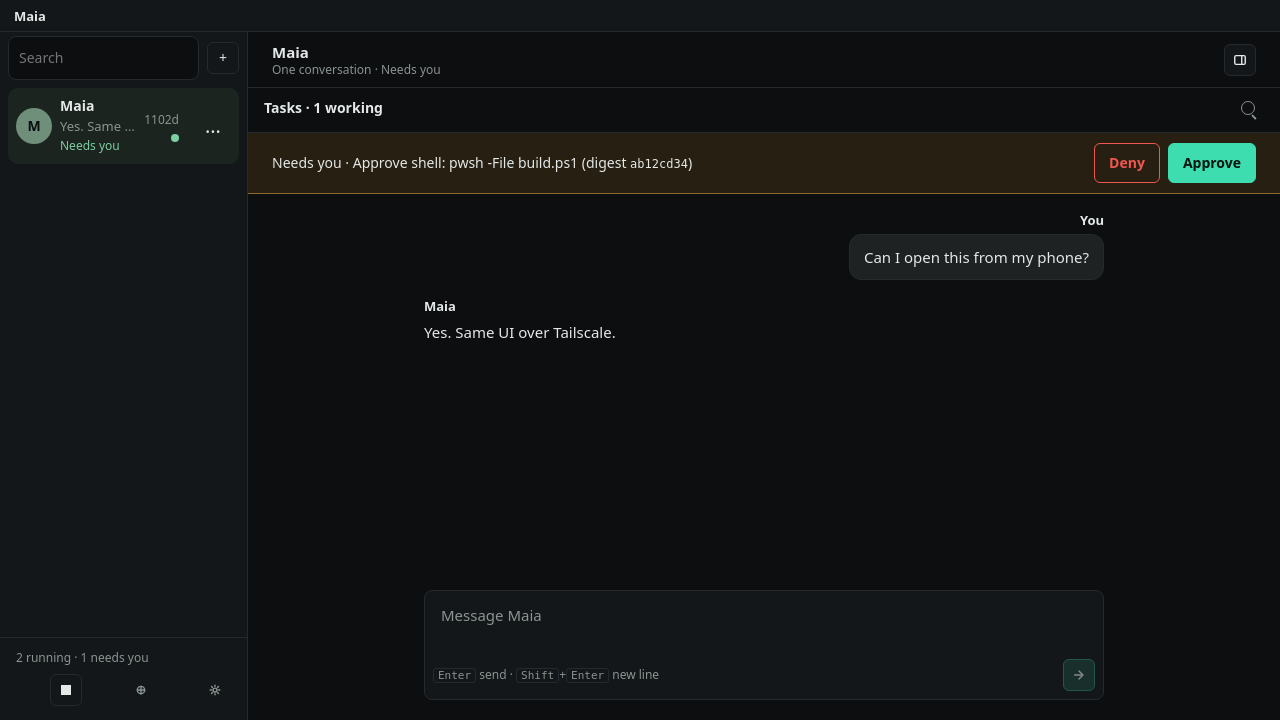
Test: AppShell layout › switches bots immediately and keeps their histories apart
Expected: the text "Can I open this from my phone?" is shown, [864,245,1089,269]
Click the button named "New bot". click: {"x": 223, "y": 58}
box: [207,42,239,74]
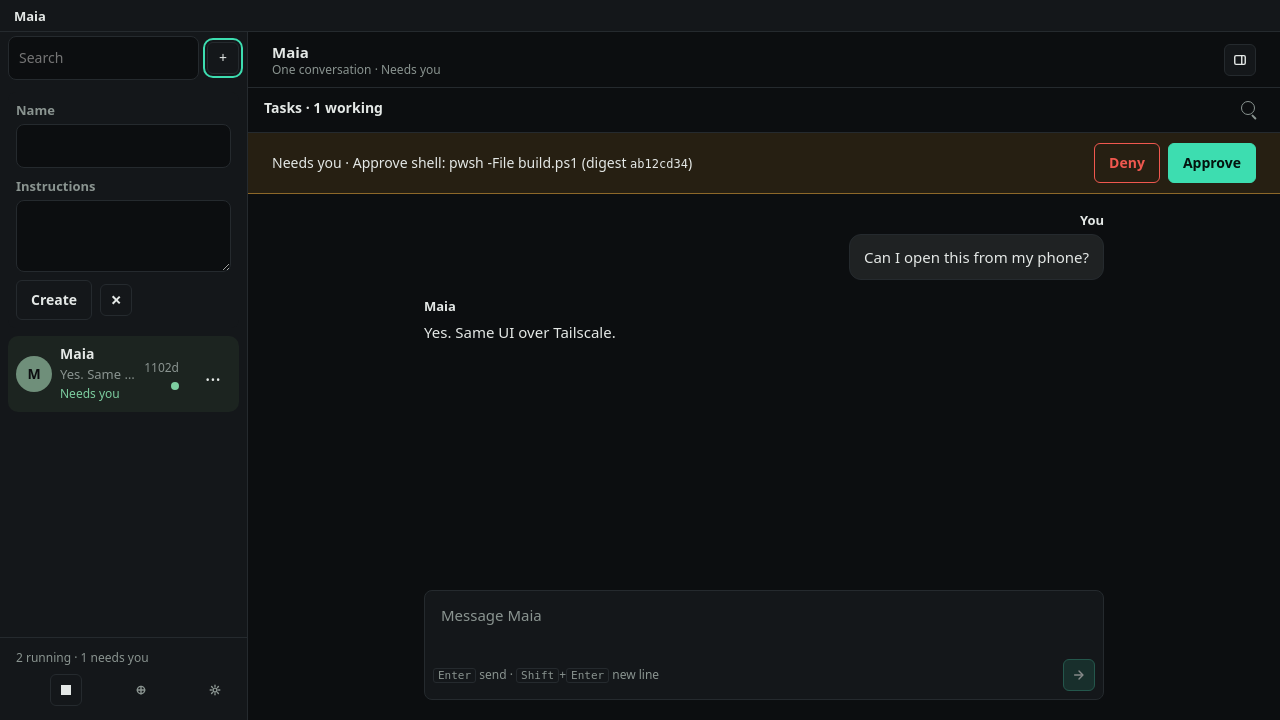
Type "Coding" into the field named "Bot name". click: {"x": 124, "y": 146}
box: [16,124,231,168]
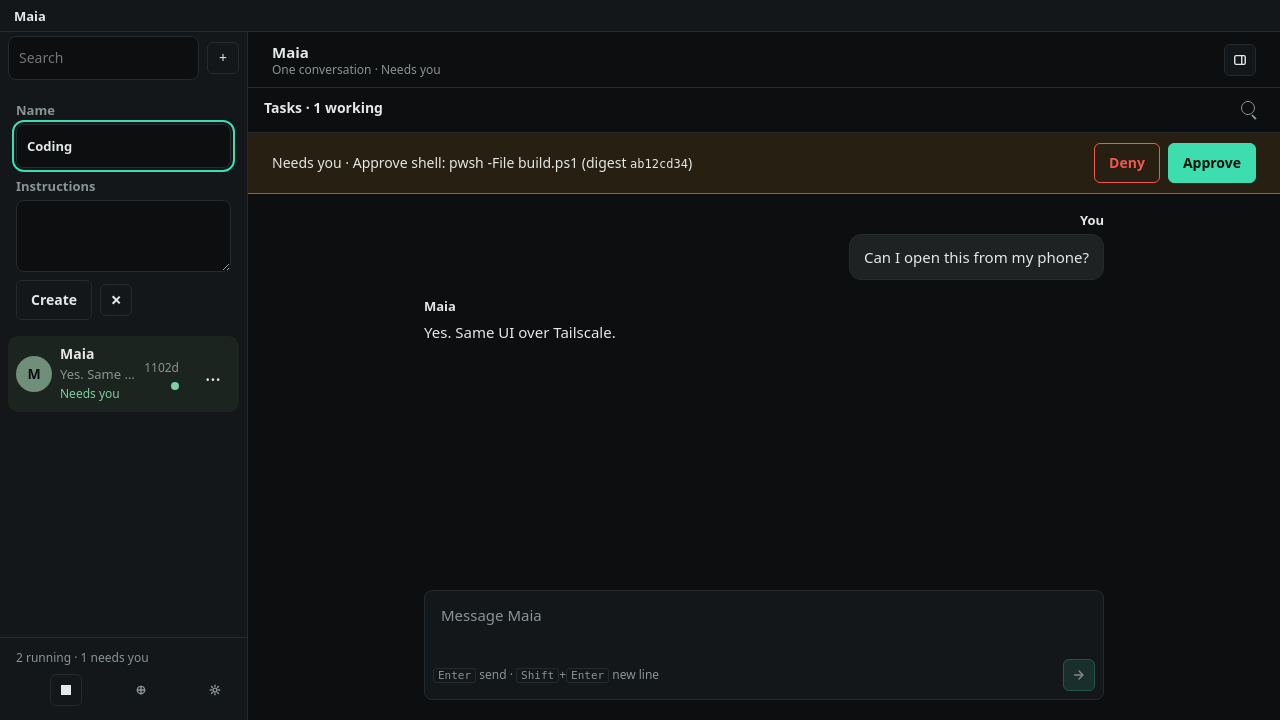
Click the button "Create". click: {"x": 54, "y": 300}
box: [16,280,92,320]
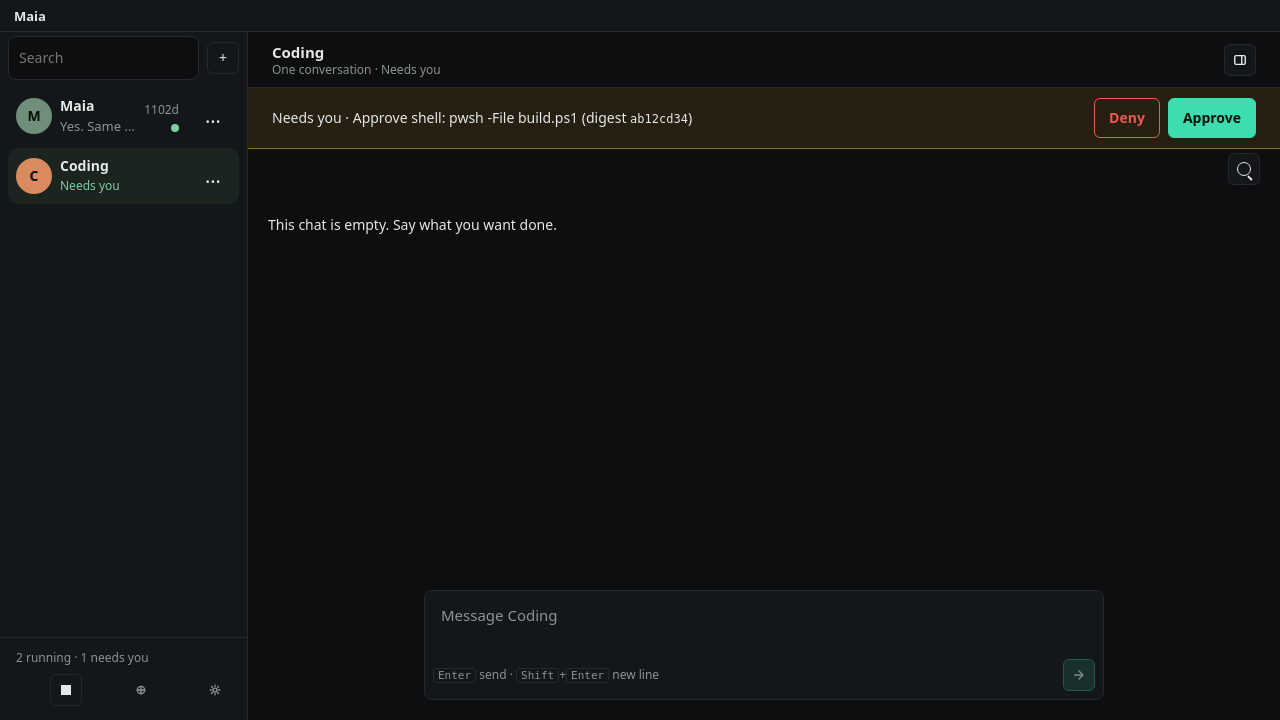
Expected: the text "Can I open this from my phone?" is gone
Expected: the heading "Coding" is shown, [272,42,324,62]
Click the button "M Maia Yes. Same UI over Tailscale. 1102d". click: {"x": 98, "y": 116}
box: [8,88,187,144]
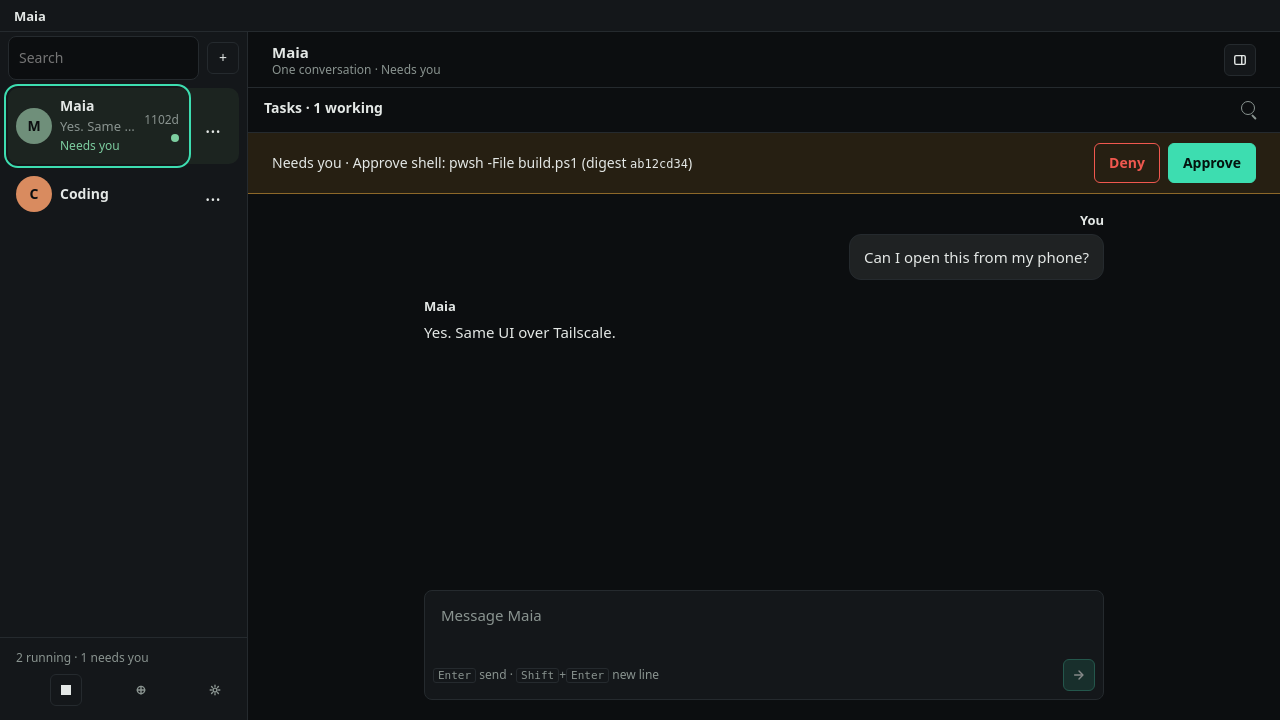
Expected: the text "Can I open this from my phone?" is shown, [864,245,1089,269]
